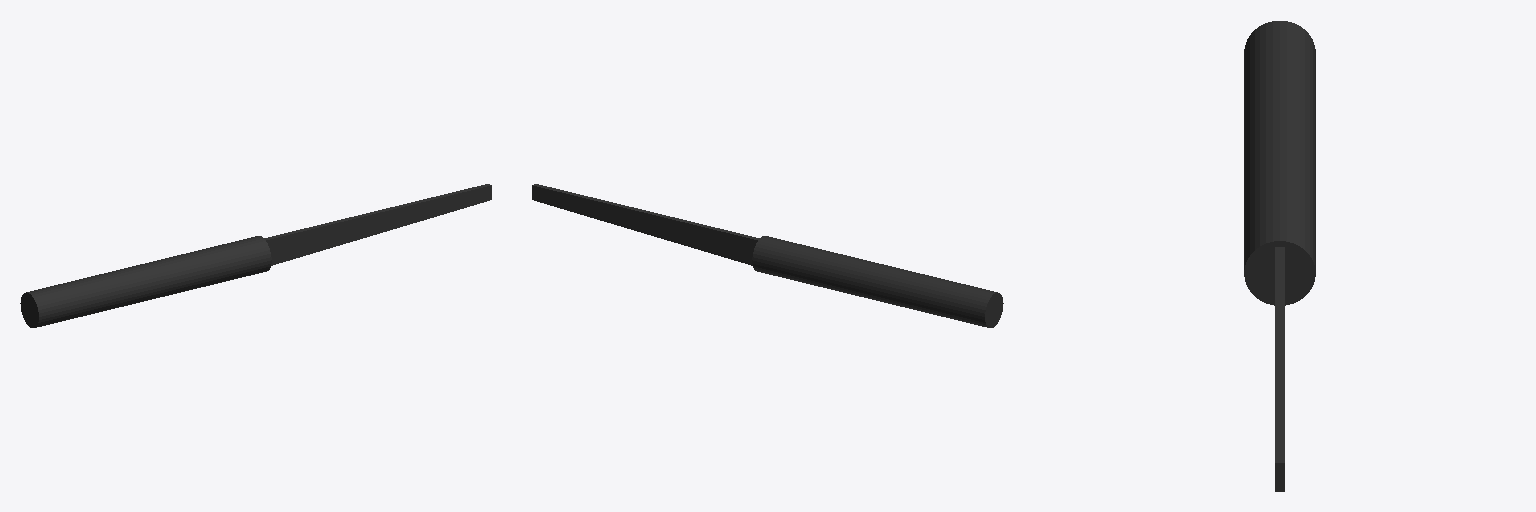
The robot description file, URDF, robot "knife":
<?xml version="1.0"?>

<robot name="knife">
  <link name="knife">
    <gravity>false</gravity>
    <inertial>
       <mass value="0.02"/>
       <inertia
        ixx="0.0007"
        ixy="0"
        ixz="0"
        iyy="0.0007"
        iyz="0"
        izz="0.007" />
    </inertial>
    <collision>
        <geometry><box size="0.0001 0.0001 0.0001" /></geometry>
          <surface>
            <contact>
              <collide_without_contact>true</collide_without_contact>
            </contact>
          </surface>
    </collision>
    <visual>
      <geometry>
        <mesh filename="package://pizza_demo/models/knife/meshes/knife.dae"/>
      </geometry>
    </visual>
  </link>
</robot>

--- What the picture shows (computed from the rendered views, not written in the file) ---
The picture shows the robot from 3 angles, left to right: view 1: azimuth 30°, elevation 25°; view 2: azimuth 150°, elevation 25°; view 3: azimuth 270°, elevation 25°; orthographic projection.
Model knife with 1 links and 0 joints (none), rooted at knife, posed all joints at 0.
Visible links, largest first — view 1: knife; view 2: knife; view 3: knife.
Link boxes in pixels (left/top/right/bottom): knife: left=20, top=184, right=491, bottom=327; knife: left=532, top=184, right=1003, bottom=327; knife: left=1244, top=21, right=1315, bottom=491.
Bounding box of the posed robot: 0.2988 × 0.0208 × 0.0208 m (x, y, z).
Meshes: 1 distinct files referenced, 1 mesh visuals loaded (1 Collada DAE).